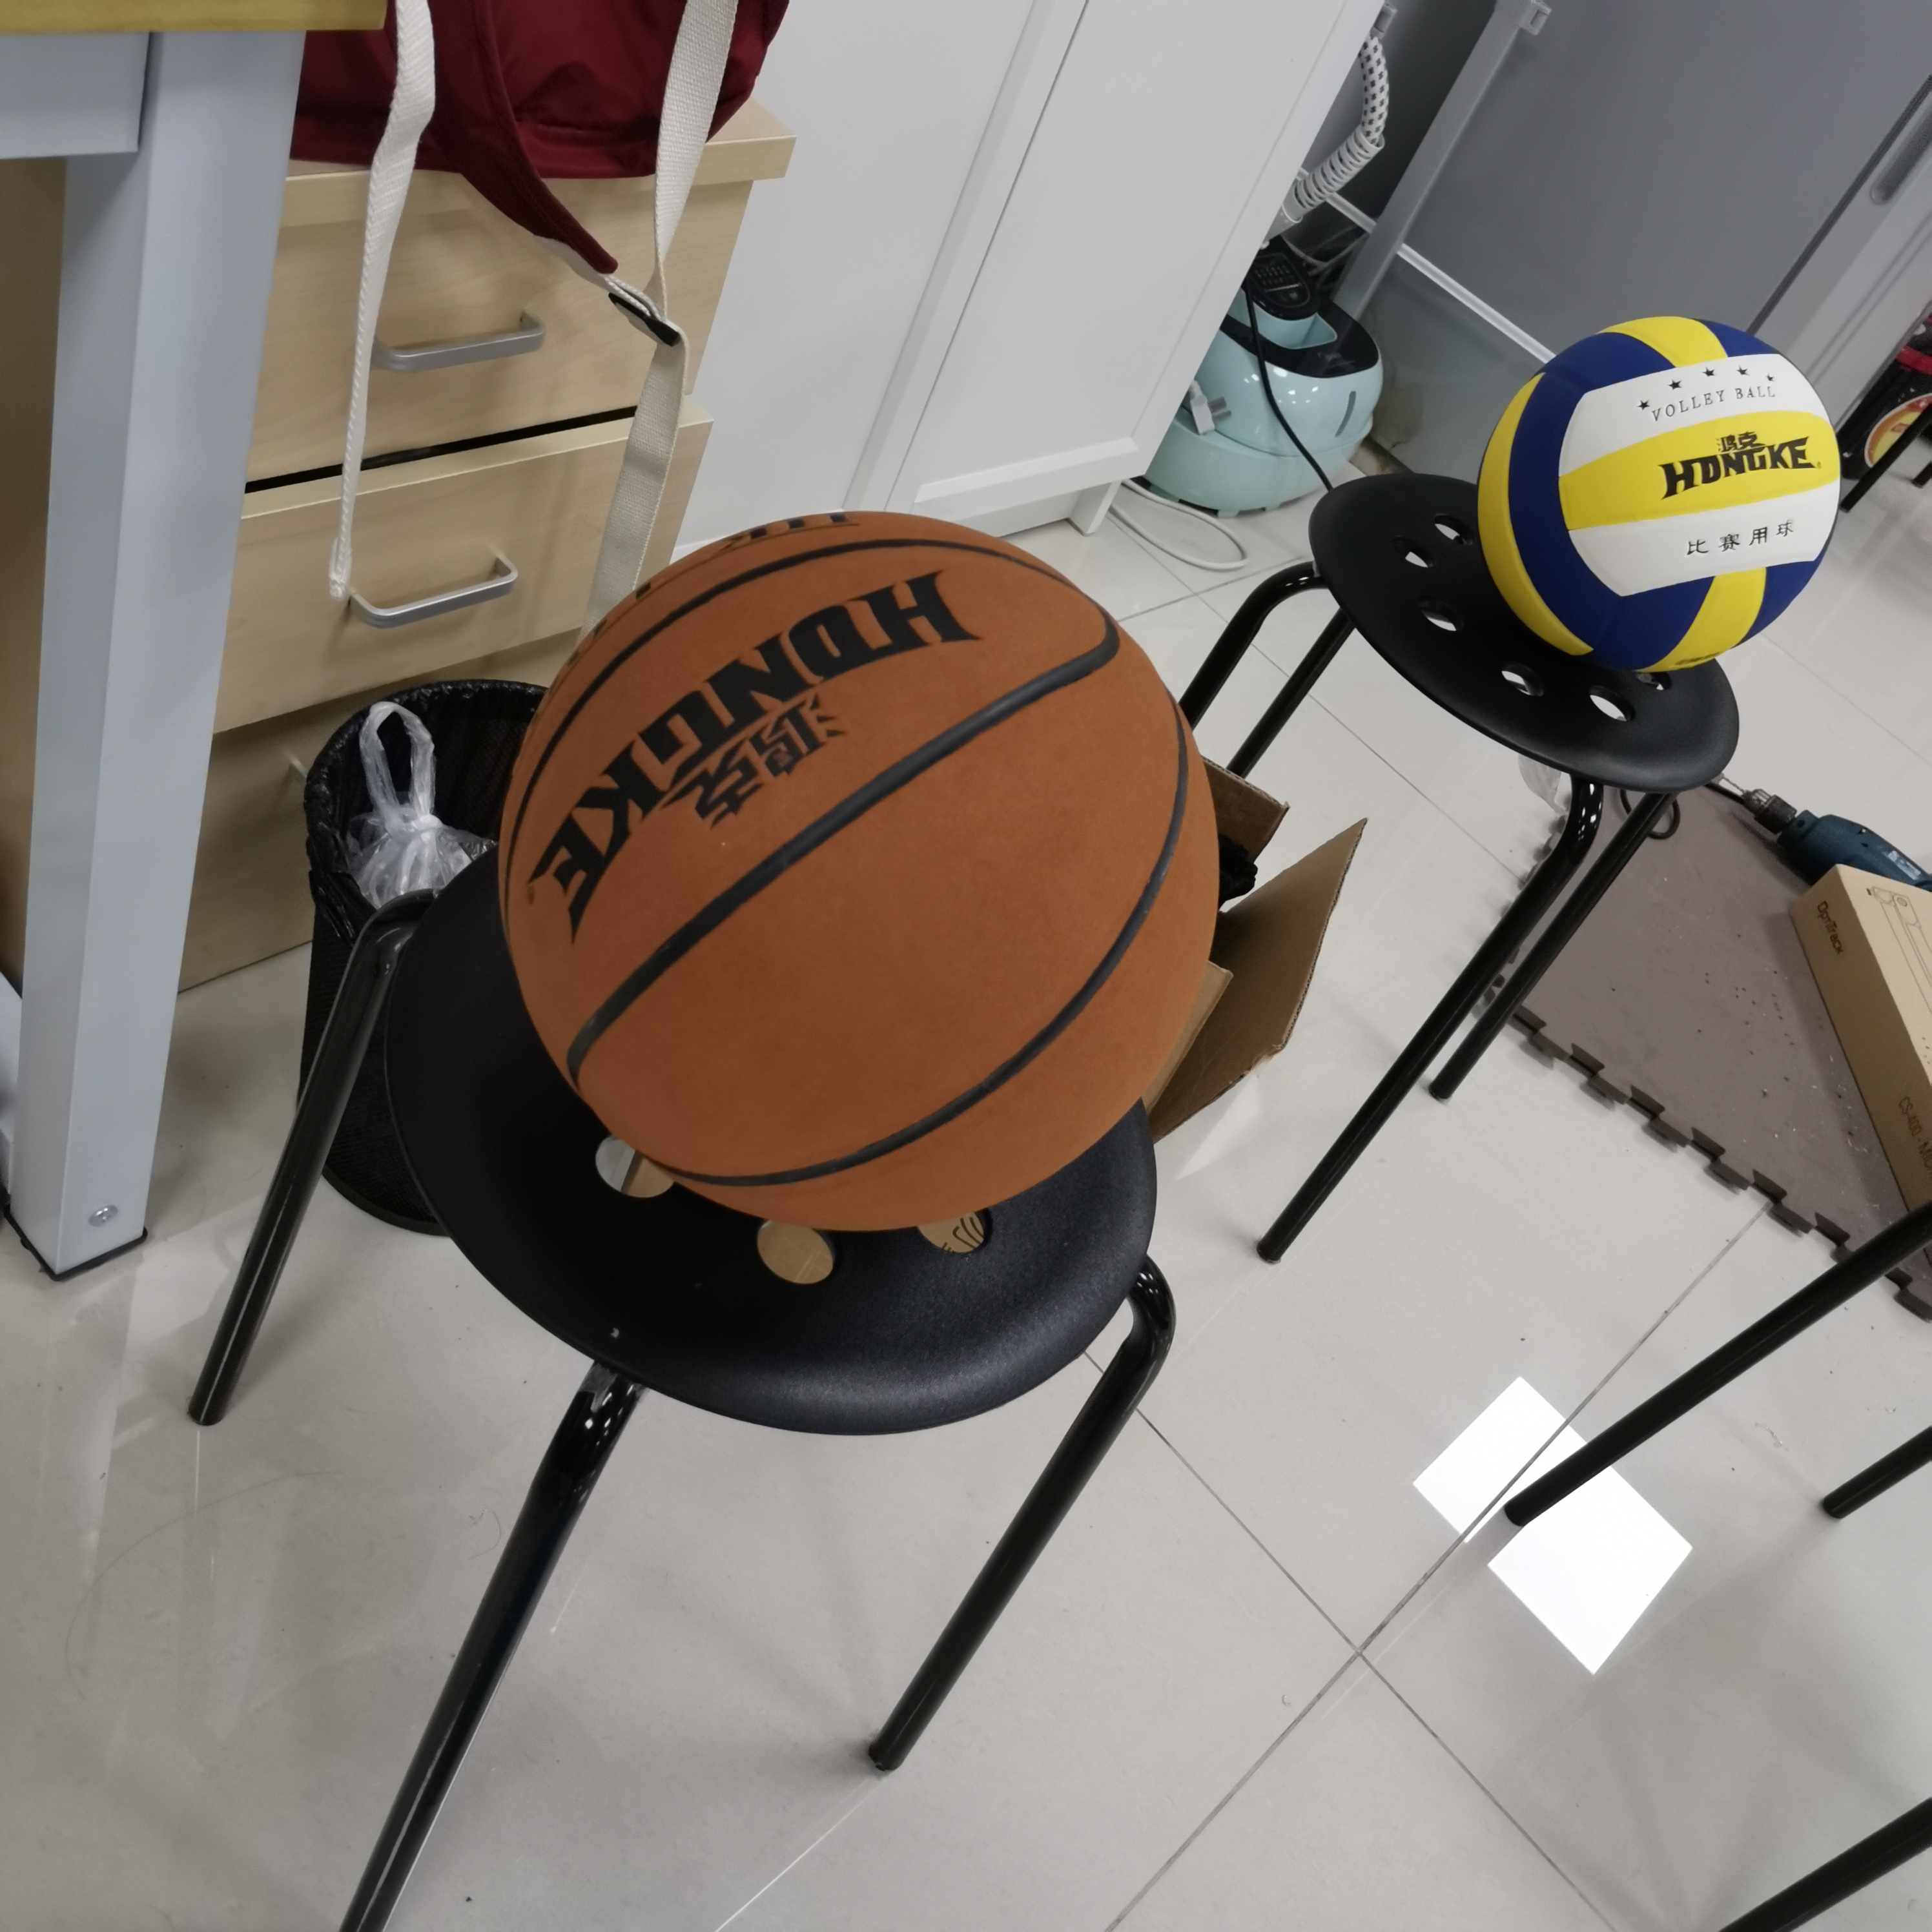basketball: (499, 510, 1223, 1230)
volleyball: (1477, 317, 1840, 672)
